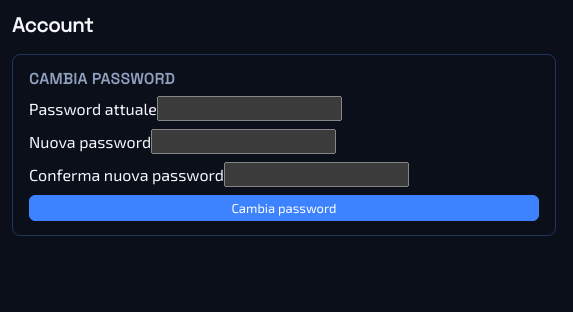
Test: AccountPage › submits and clears the fields on success
In the password field labelled "Password attuale": (249, 108) [157,96,342,121], type "old-password-123"
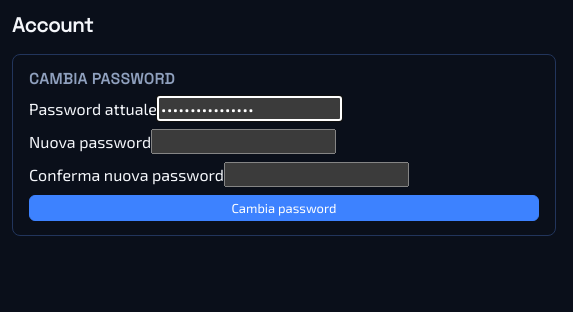
In the password field labelled "Nuova password": (244, 142) [151,129,336,154], type "brand-new-password-1"
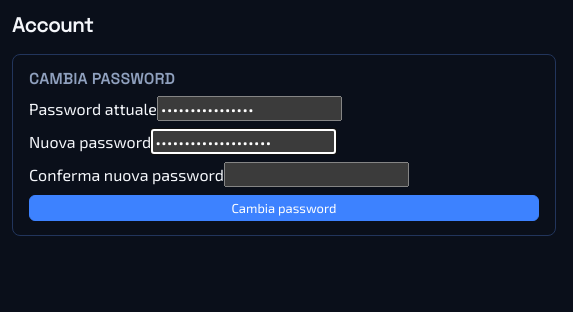
In the password field labelled "Conferma nuova password": (316, 174) [224,162,409,187], type "brand-new-password-1"
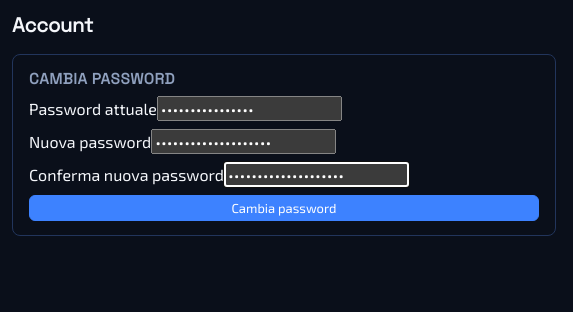
Click the button "Cambia password": (284, 208) [29,195,539,221]
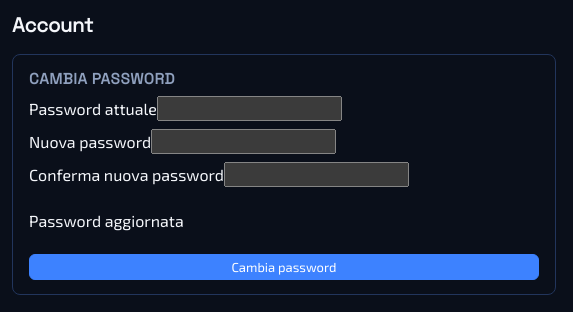
Check: the text "Password aggiornata" is shown, box [29,211,184,230]
Check: the password field labelled "Password attuale" is empty, box [157,96,342,121]
Check: the password field labelled "Nuova password" is empty, box [151,129,336,154]
